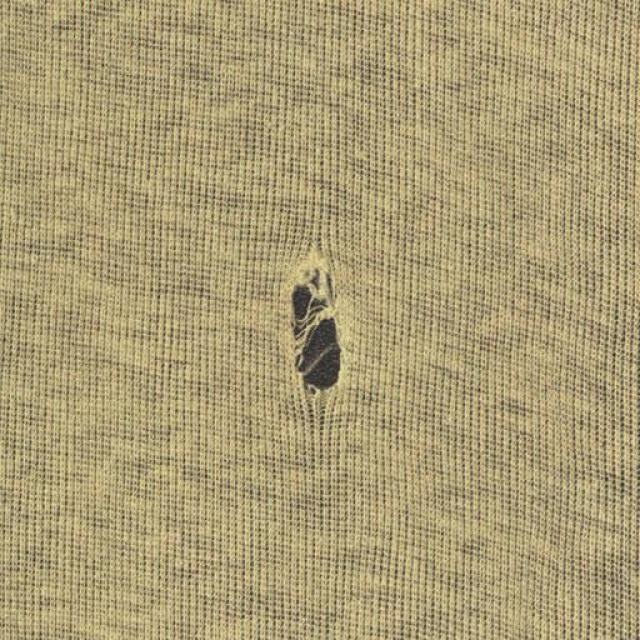Hole: (291, 246, 342, 395)
